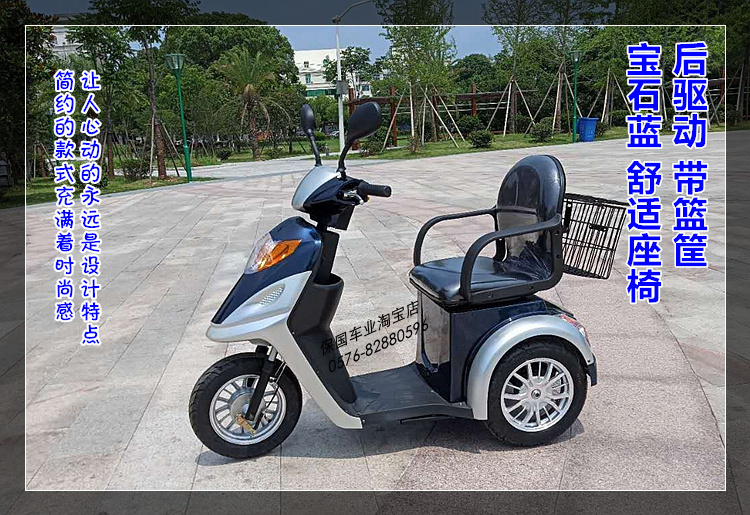电动车: (185, 84, 629, 475)
